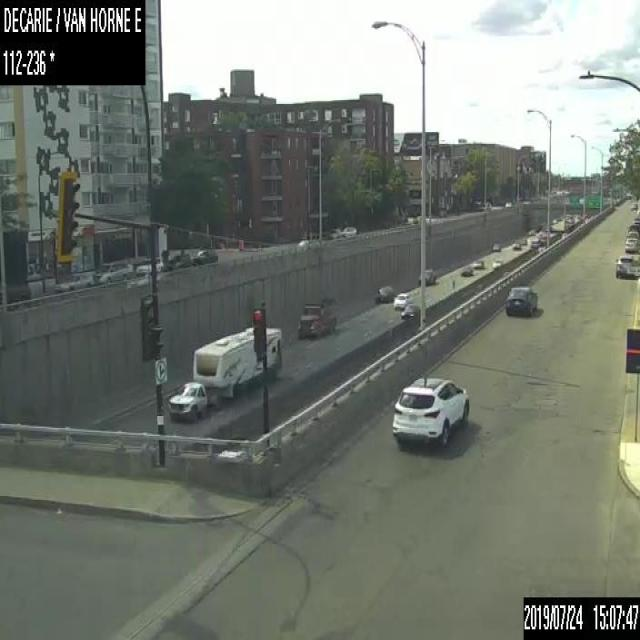vehicle: (164, 325, 281, 419), (390, 375, 469, 448), (298, 297, 336, 336), (504, 284, 536, 315), (54, 274, 93, 290), (93, 263, 127, 281), (615, 254, 634, 279), (134, 258, 160, 276), (190, 248, 217, 265), (165, 249, 190, 267), (416, 266, 436, 286), (401, 302, 420, 319), (624, 235, 639, 252), (393, 292, 408, 309), (376, 286, 392, 300), (327, 224, 341, 239), (342, 224, 355, 238), (512, 238, 522, 250), (461, 265, 471, 276), (491, 255, 501, 265), (530, 236, 538, 248), (491, 241, 500, 251), (627, 229, 638, 237), (473, 258, 482, 266)
